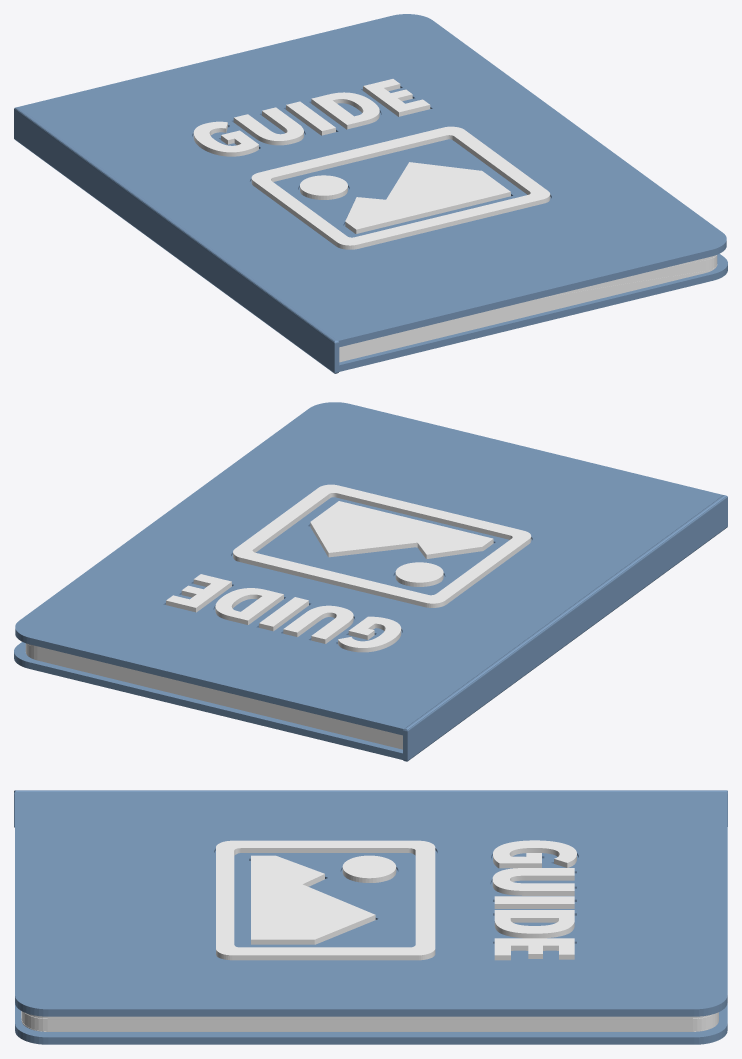
Rendered from guide-book.gltf.
3 renders of one model, top to bottom at view 1: azimuth 30°, elevation 25°; view 2: azimuth 150°, elevation 25°; view 3: azimuth 270°, elevation 25°, orthographic. The views are drawn at different scales.
Visible parts, largest first — view 1: Top Cover, Spine, Curve, Curve.002, Paper, Bottom, Curve.006, Curve.004, Curve.003, Curve.007, Curve.001, Curve.005; view 2: Top Cover, Spine, Curve, Curve.002, Paper, Bottom, Curve.006, Curve.004, Curve.003, Curve.007, Curve.001, Curve.005; view 3: Top Cover, Paper, Bottom, Curve, Curve.002, Curve.004, Curve.006, Curve.003, Spine, Curve.007, Curve.001, Curve.005 (+2 smaller).
Part boxes in pixels (x1,y1,x2,y2): Top Cover: (15, 14, 726, 347); Spine: (14, 107, 339, 373); Curve: (251, 126, 550, 249); Curve.002: (345, 162, 510, 233); Paper: (339, 255, 717, 362); Bottom: (339, 254, 727, 371); Curve.006: (311, 92, 379, 129); Curve.004: (233, 107, 303, 145); Curve.003: (193, 121, 258, 156); Curve.007: (363, 79, 430, 116); Curve.001: (300, 175, 347, 199); Curve.005: (286, 101, 335, 135); Top Cover: (15, 402, 726, 735); Spine: (403, 495, 727, 761); Curve: (233, 484, 531, 607); Curve.002: (310, 501, 493, 559); Paper: (25, 643, 402, 749); Bottom: (14, 642, 402, 759); Curve.006: (215, 588, 283, 624); Curve.004: (283, 605, 353, 643); Curve.003: (338, 616, 401, 652); Curve.007: (166, 574, 231, 612); Curve.001: (395, 562, 443, 586); Curve.005: (259, 597, 308, 631); Top Cover: (15, 790, 727, 1016); Paper: (21, 1011, 718, 1031); Bottom: (15, 1003, 727, 1044); Curve: (216, 840, 435, 960); Curve.002: (251, 855, 375, 944); Curve.004: (492, 868, 574, 895); Curve.006: (494, 910, 574, 938); Curve.003: (493, 840, 576, 868); Spine: (14, 790, 727, 827); Curve.007: (494, 938, 574, 960); Curve.001: (342, 855, 396, 882); Curve.005: (494, 896, 574, 908).
Size of the model in its own units: 4.99 by 0.4268 by 6.85.
